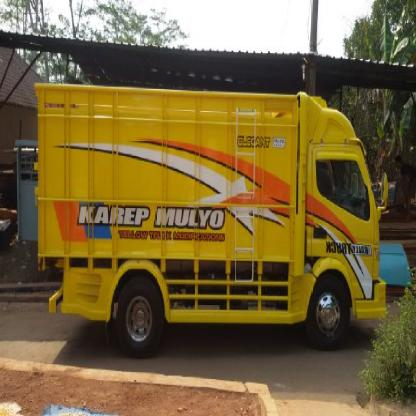truck: (36, 79, 394, 354)
